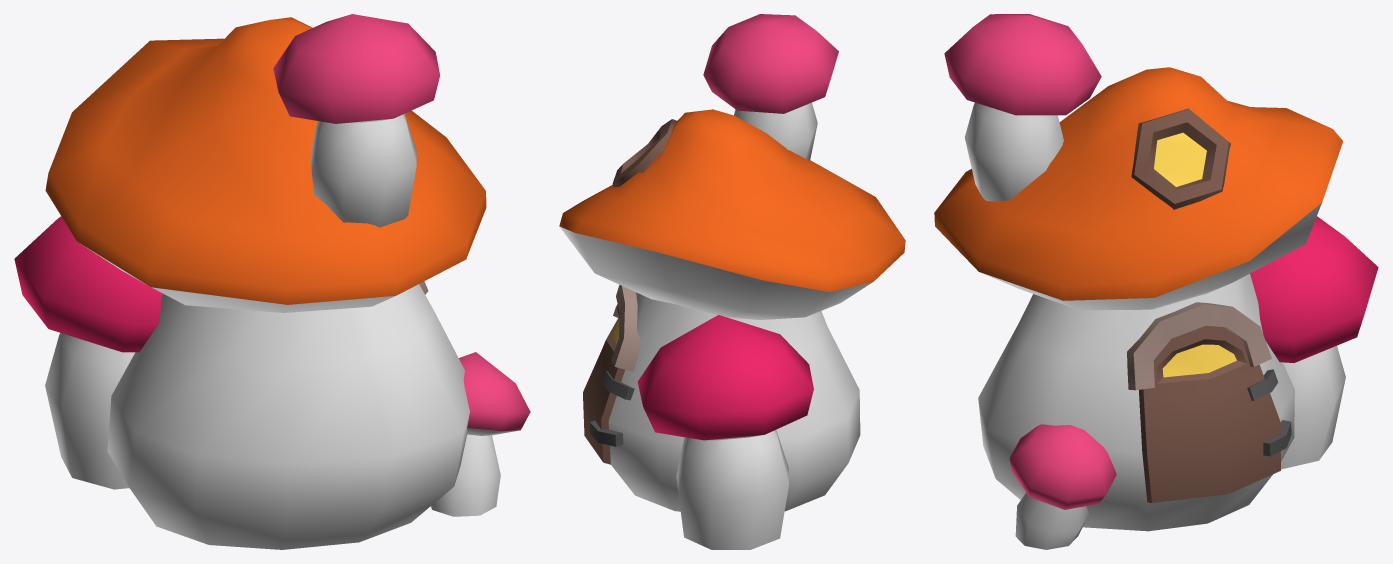
Rendered from n4_house_001_lev4.glb.
3 views of the same model, side by side, from view 1: azimuth 30°, elevation 25°; view 2: azimuth 150°, elevation 25°; view 3: azimuth 270°, elevation 25° (orthographic). The views are drawn at different scales.
Visible parts, largest first — view 1: n4_house_001_lev4; view 2: n4_house_001_lev4; view 3: n4_house_001_lev4.
Part boxes in pixels (box(x1,y1,x2,y2)): n4_house_001_lev4: box(14, 14, 530, 549); n4_house_001_lev4: box(559, 14, 905, 549); n4_house_001_lev4: box(934, 14, 1378, 549).
Bounding box in the file's own units: 9.74 × 12.4 × 10.67.
Materials: 1 (1 with a texture image).
